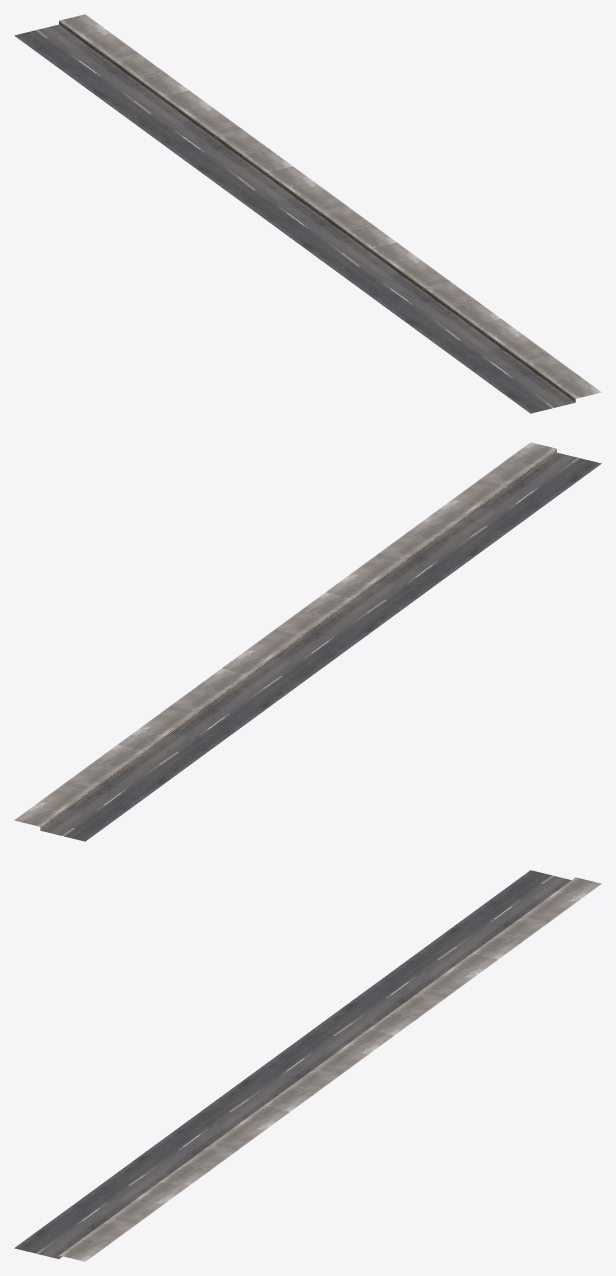
File: jalan.fbx
3 renders of one model, top to bottom at view 1: azimuth 30°, elevation 25°; view 2: azimuth 150°, elevation 25°; view 3: azimuth 330°, elevation 25°, orthographic.
Parts seen in each view (by area): view 1: Cube.002; view 2: Cube.002; view 3: Cube.002.
Part boxes in pixels (x1,y1,x2,y2): Cube.002: (14, 14, 601, 413); Cube.002: (14, 442, 601, 841); Cube.002: (14, 870, 601, 1261).
Bounding box in the file's own units: 1289 × 66.4 × 16165.
1 material, 1 textured.
